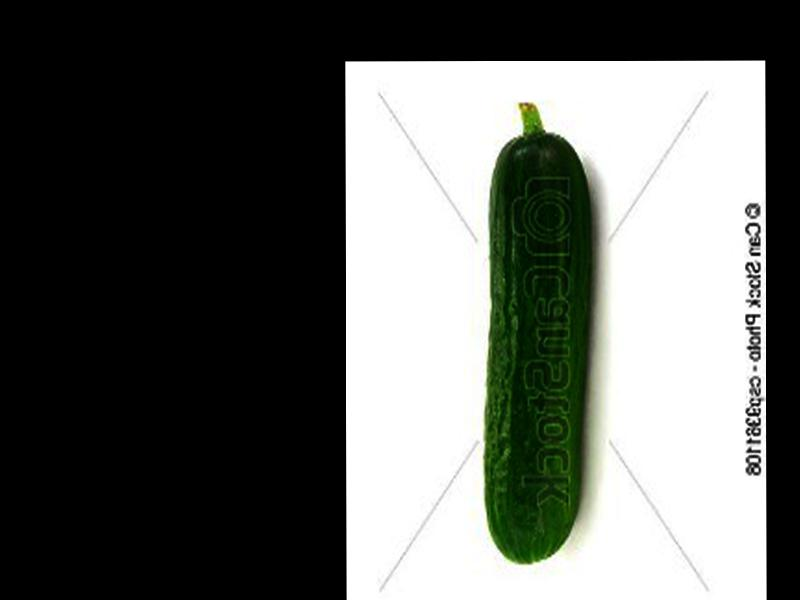Cucumber: (484, 100, 592, 567)
